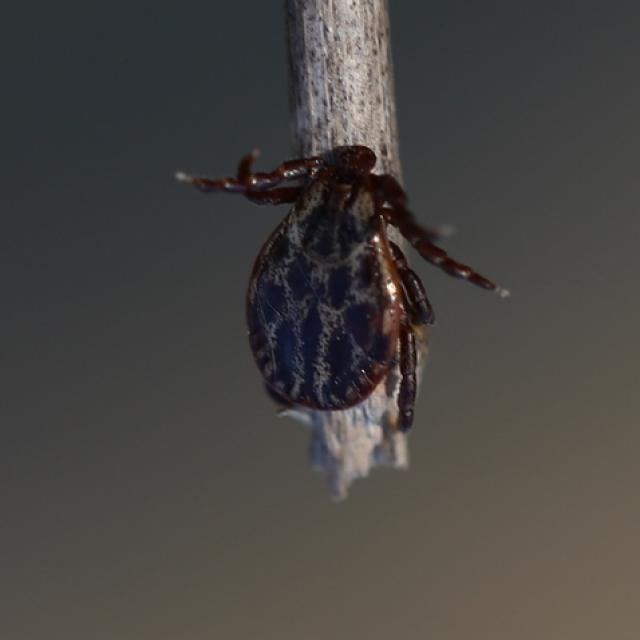Dermacentor Reticulatus-M: (189, 142, 510, 433)
